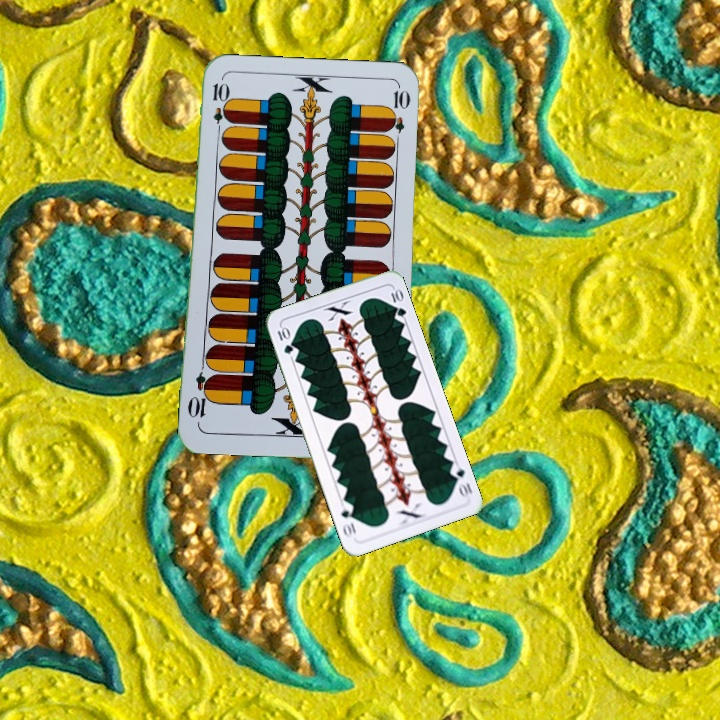E10: (209, 79, 227, 138)
G10: (446, 460, 475, 499), (273, 323, 296, 357)
